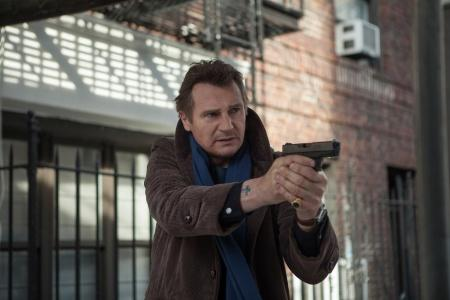Gun: (281, 141, 340, 173)
